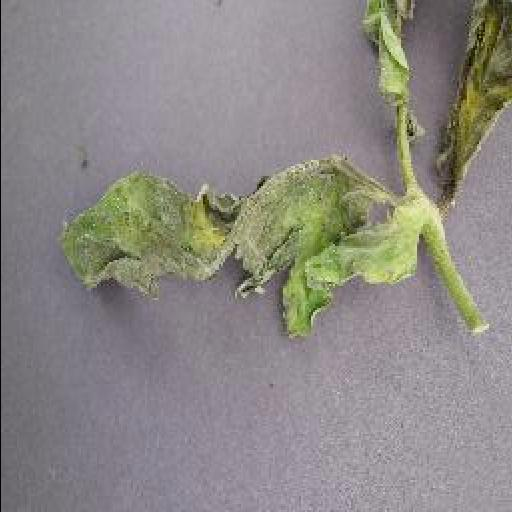disease_tomato: (52, 158, 420, 336), (436, 0, 512, 206)
